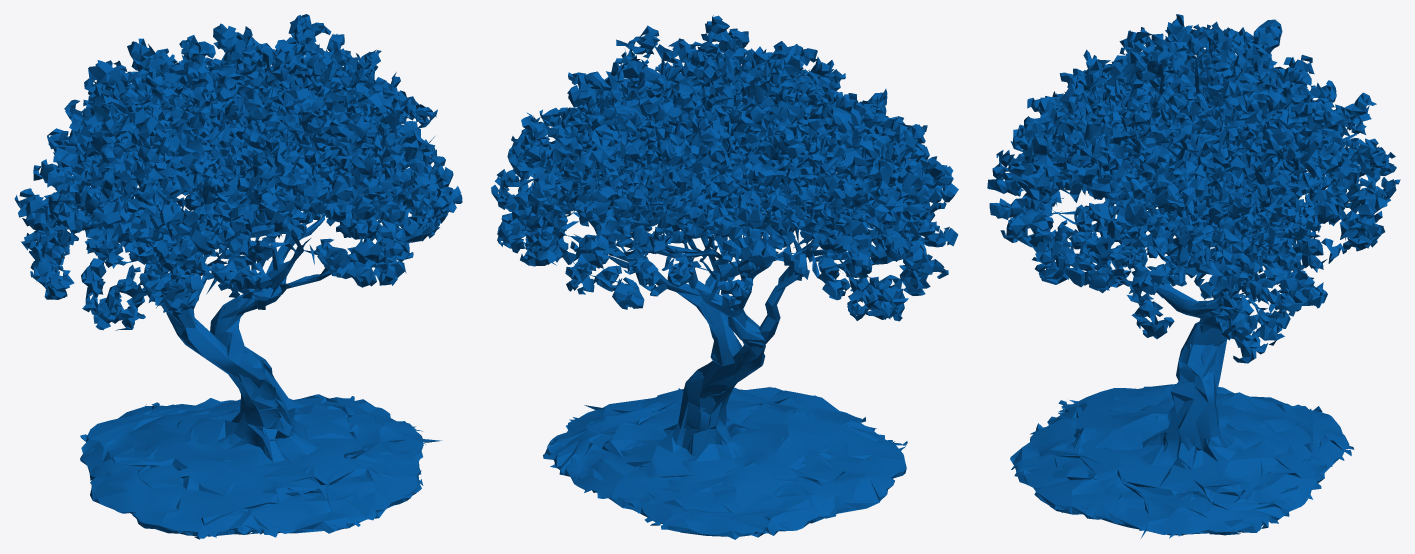
File: sakura_young.glb
3 renders of one model, left to right at view 1: azimuth 30°, elevation 25°; view 2: azimuth 150°, elevation 25°; view 3: azimuth 270°, elevation 25°, orthographic. The views are drawn at different scales.
Visible parts, largest first — view 1: Mesh_0; view 2: Mesh_0; view 3: Mesh_0.
Boxes of the visible parts, x1=… form: Mesh_0: x1=14, y1=14, x2=462, y2=539; Mesh_0: x1=491, y1=15, x2=958, y2=539; Mesh_0: x1=987, y1=14, x2=1400, y2=538.
Size of the model in its own units: 5.68 by 5.5 by 4.85.
1 material, 1 textured.
